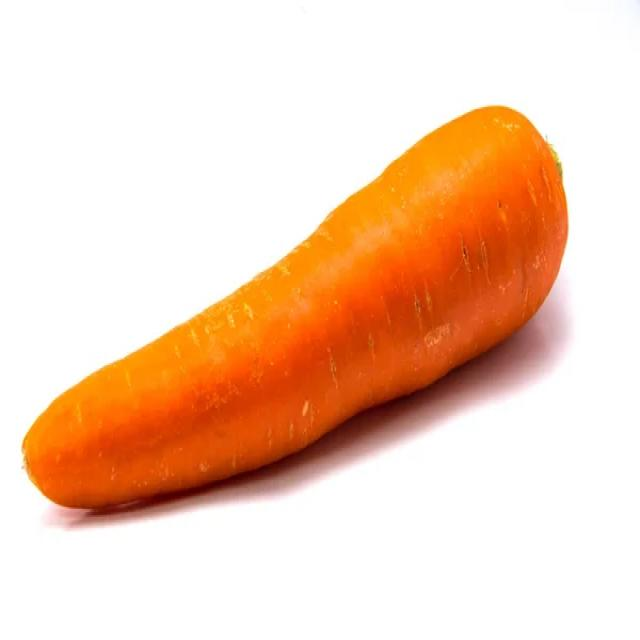Carrot: (21, 104, 574, 512)
